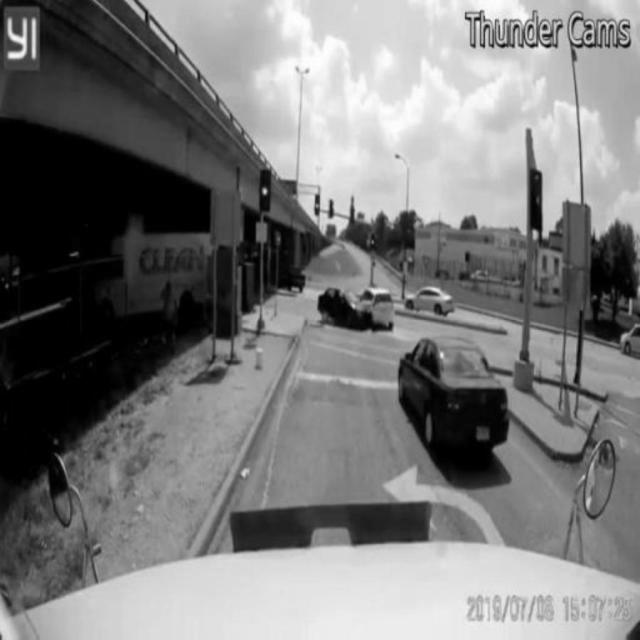accident: (314, 283, 396, 334)
vehicle: (395, 336, 513, 452), (400, 283, 457, 319)
